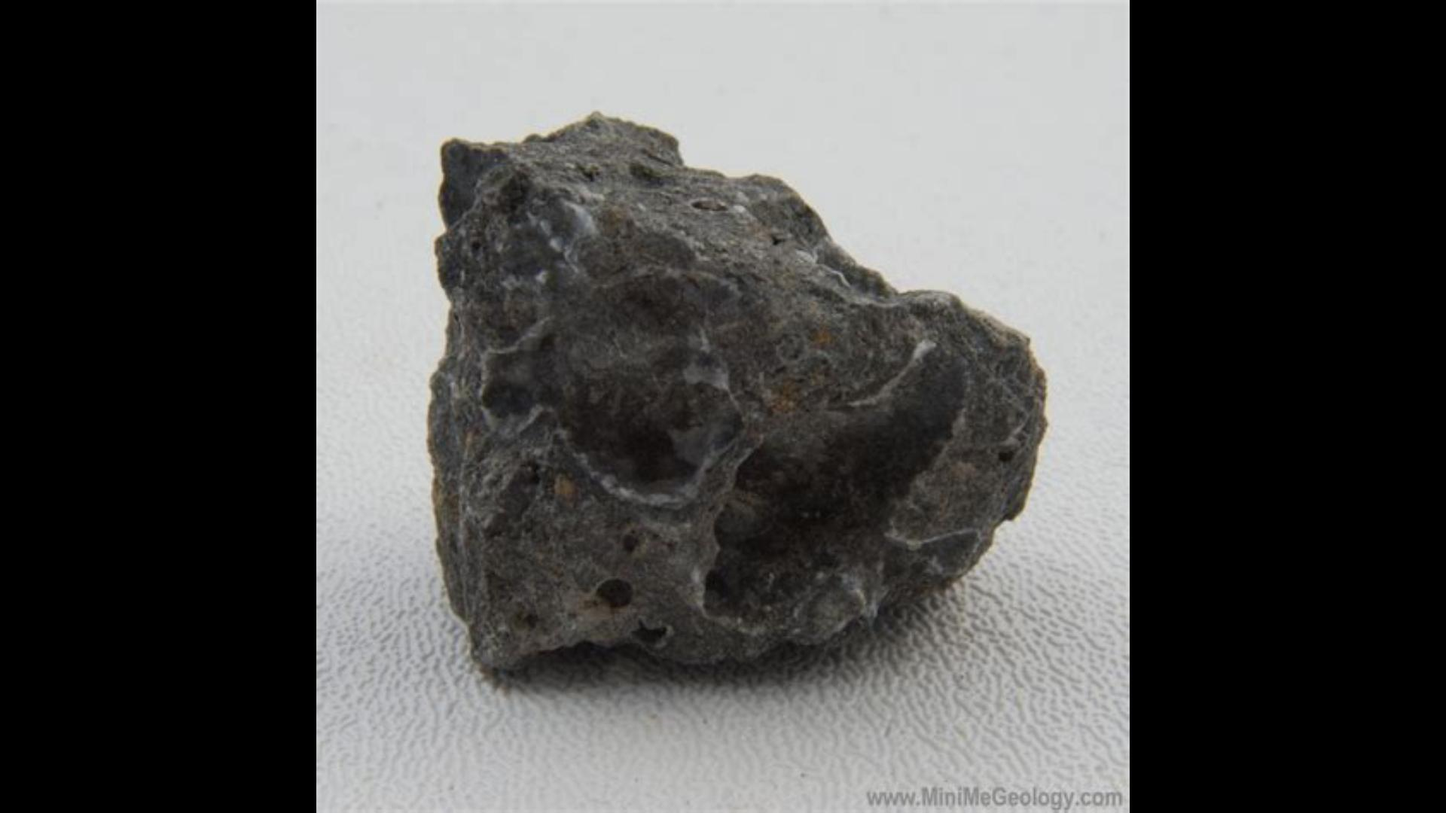rock: (430, 115, 1044, 665)
